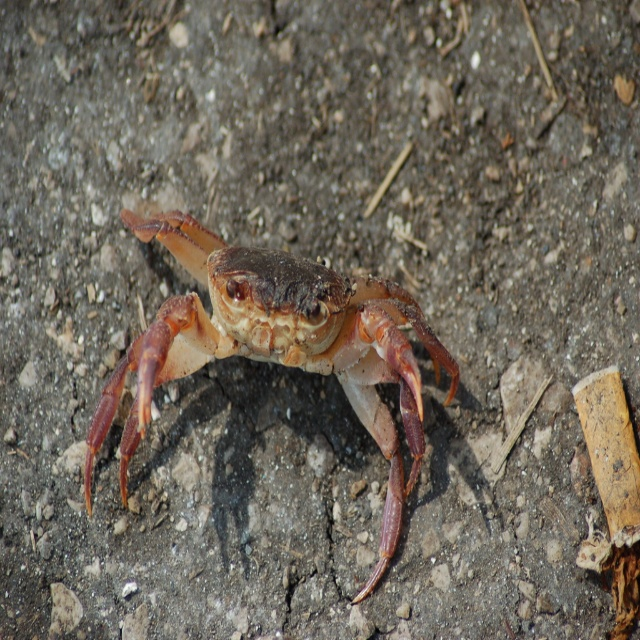Crab: (84, 209, 460, 604)
